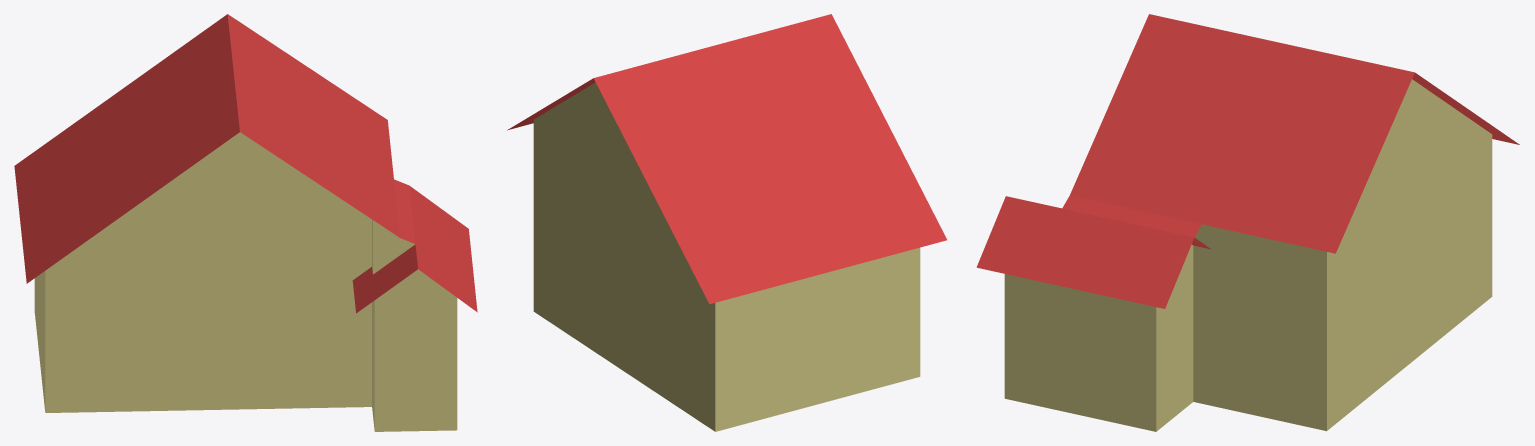
3 views of the same model, side by side, from view 1: azimuth 30°, elevation 25°; view 2: azimuth 150°, elevation 25°; view 3: azimuth 270°, elevation 25° (orthographic). The views are drawn at different scales.
Size of the model in its own units: 17.86 by 19.61 by 12.17.
